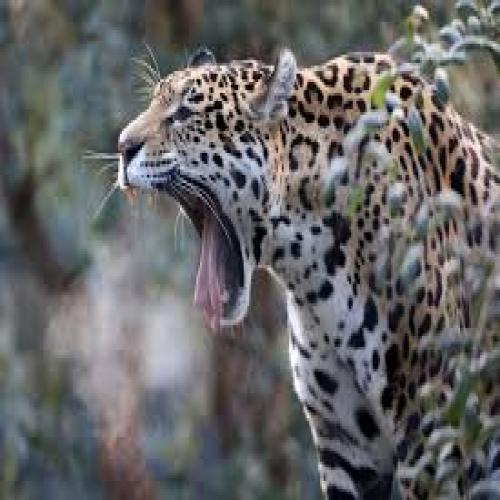jaguar_not-endangered: (114, 43, 498, 500)
